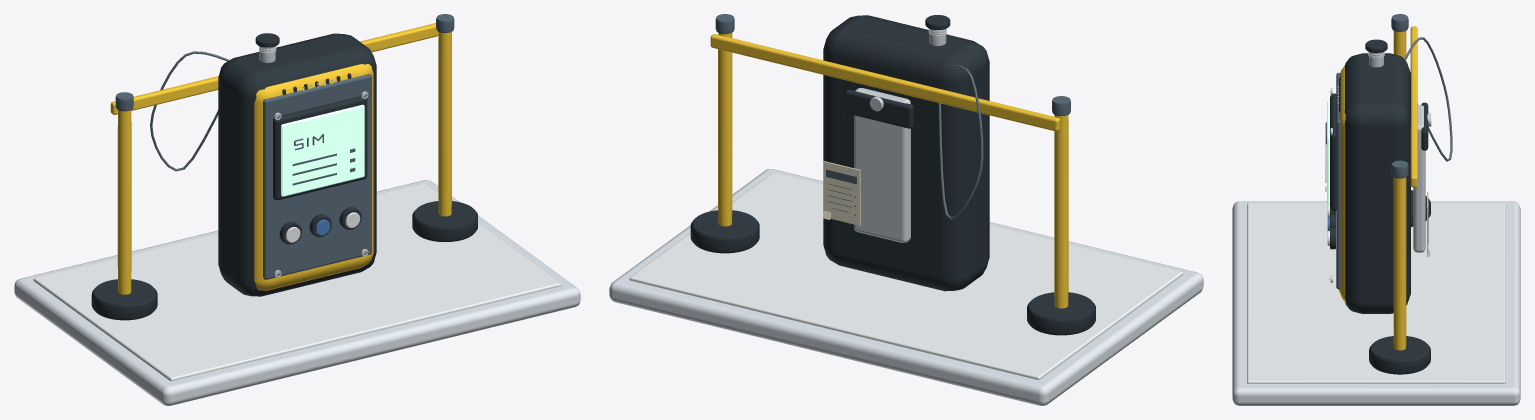
File: gas.glb
3 views of the same model, side by side, from view 1: azimuth 30°, elevation 25°; view 2: azimuth 150°, elevation 25°; view 3: azimuth 270°, elevation 25° (orthographic). The views are drawn at different scales.
Parts seen in each view (by area): view 1: gas; view 2: gas; view 3: gas.
Part boxes in pixels (x1,y1,x2,y2): gas: (14, 14, 580, 405); gas: (609, 14, 1203, 405); gas: (1232, 14, 1520, 405).
Bounding box in the file's own units: 0.77 × 0.4785 × 0.49.
